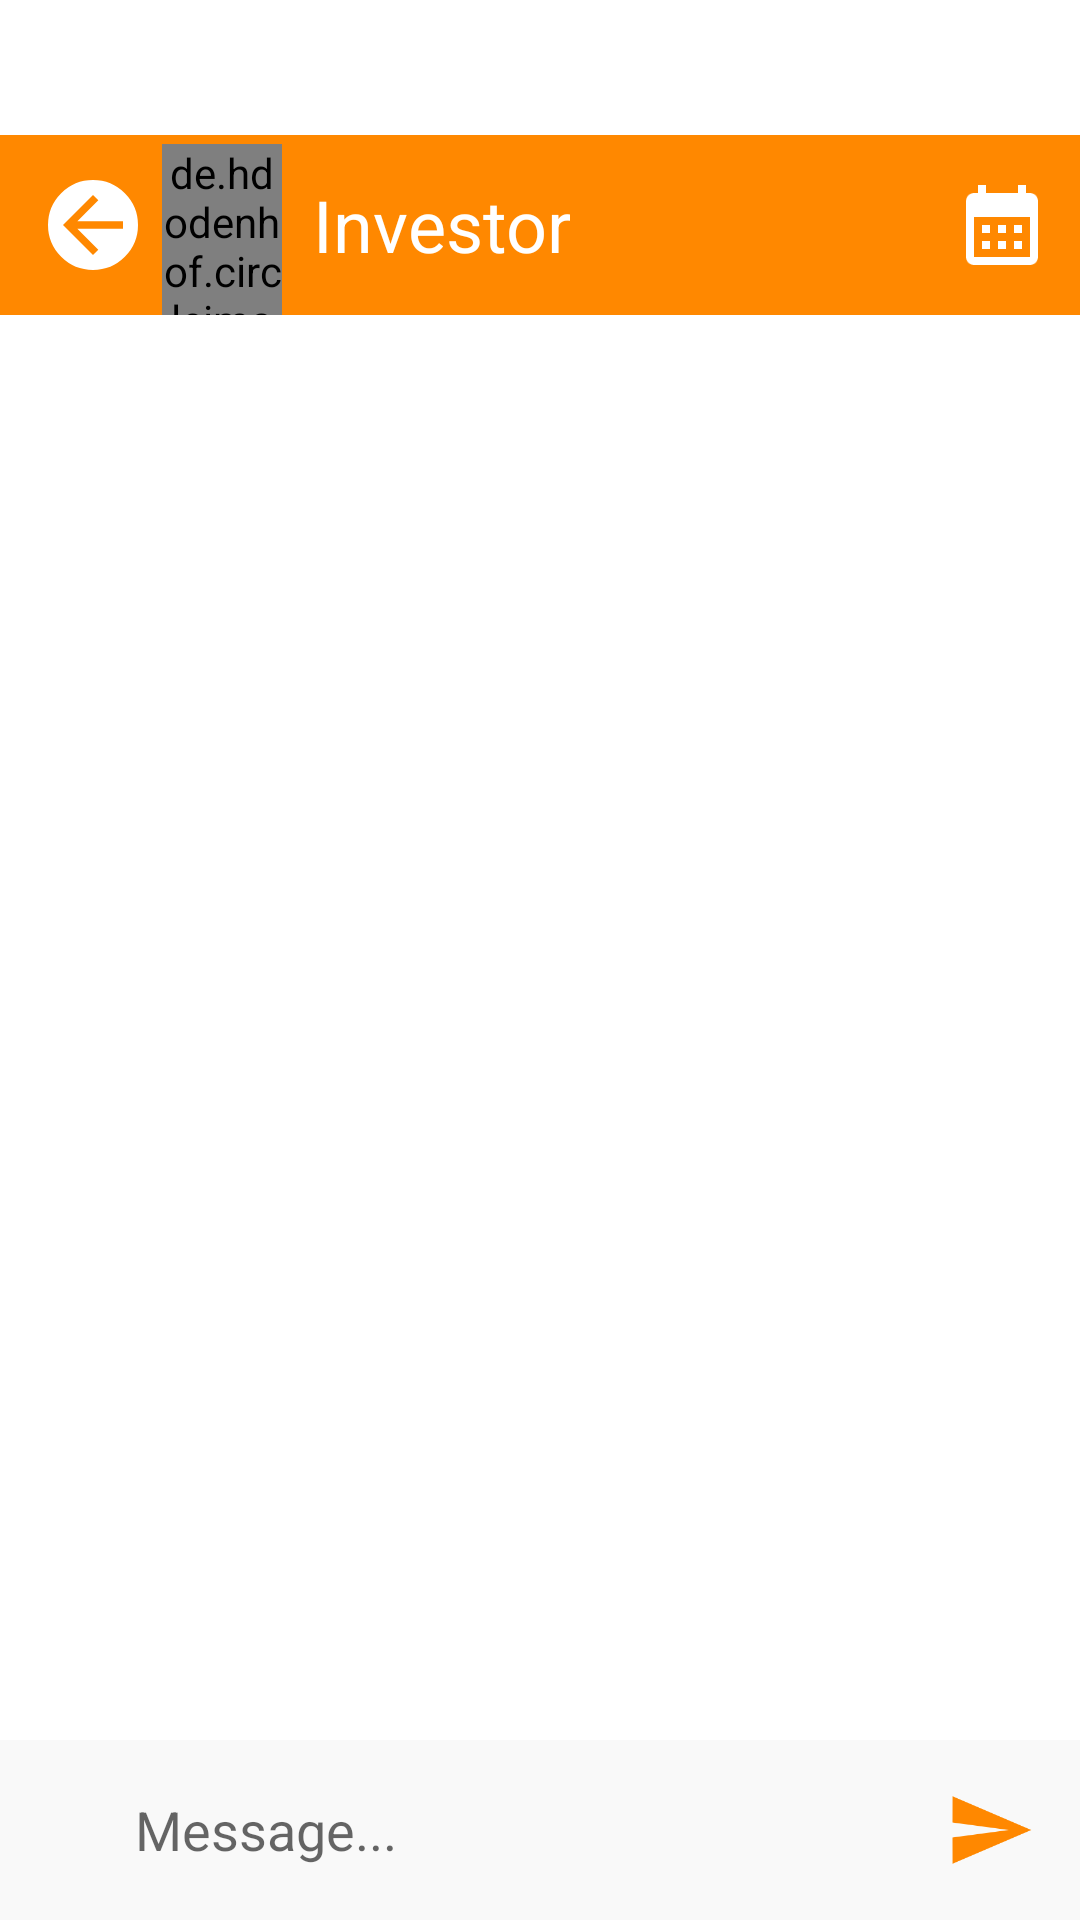

Named icons in this screenshot (1080×1920) and their bounding boxes, (x1, y1, x2, y2):
arrow back: (48, 180, 138, 270)
calendar: (966, 185, 1038, 265)
send: (952, 1796, 1031, 1864)
